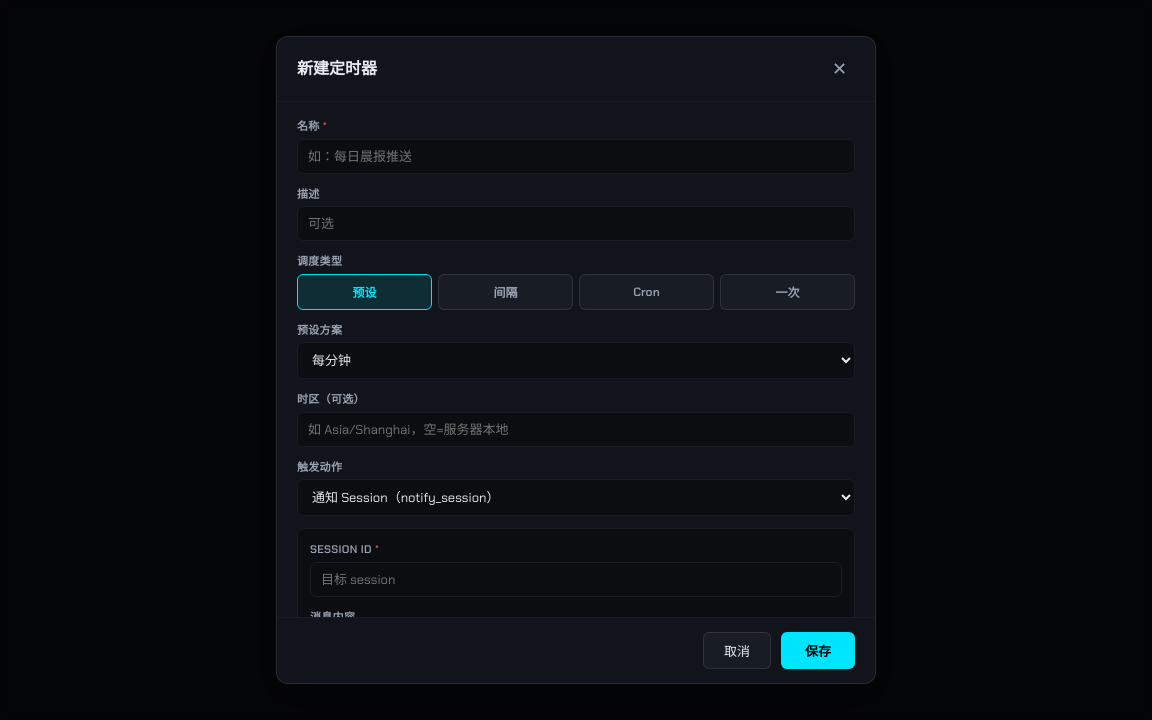
Scenario: CronForm — 调度类型切换 › 切到 cron 显示 cron 表达式输入
Click the button with class "seg-btn" showing "Cron" at (646, 292), box [579,274,714,310]
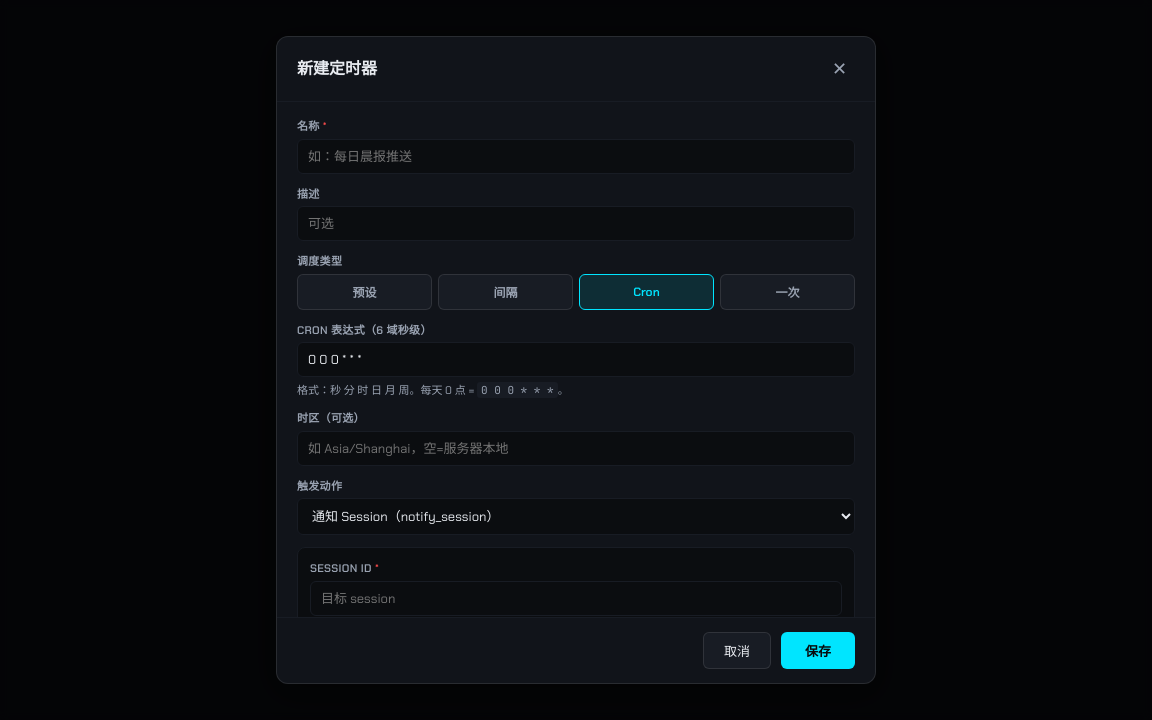
Expected: the field with id "cron-expr" is shown, [297,342,855,377]
